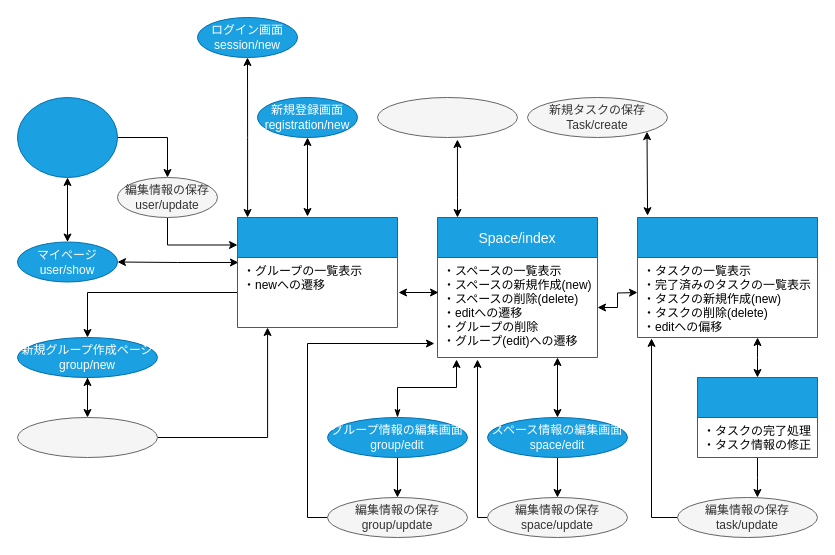
Image size: 835x555. Some labels were removed from this diagram. The shapes that lost their labels are listed below. From the top down, each one's box as (x1, y1, x2, y2) in pixels, then its label:
(16, 96, 118, 178): ユーザー情報編集ページ user/edit
(376, 96, 518, 138): 新規スペースの保存 space/create
(236, 216, 398, 328): トップページ Group/index
(636, 216, 818, 338): Task/index
(16, 416, 158, 458): 新規グループの保存 group/create
(696, 376, 818, 458): task/edit
